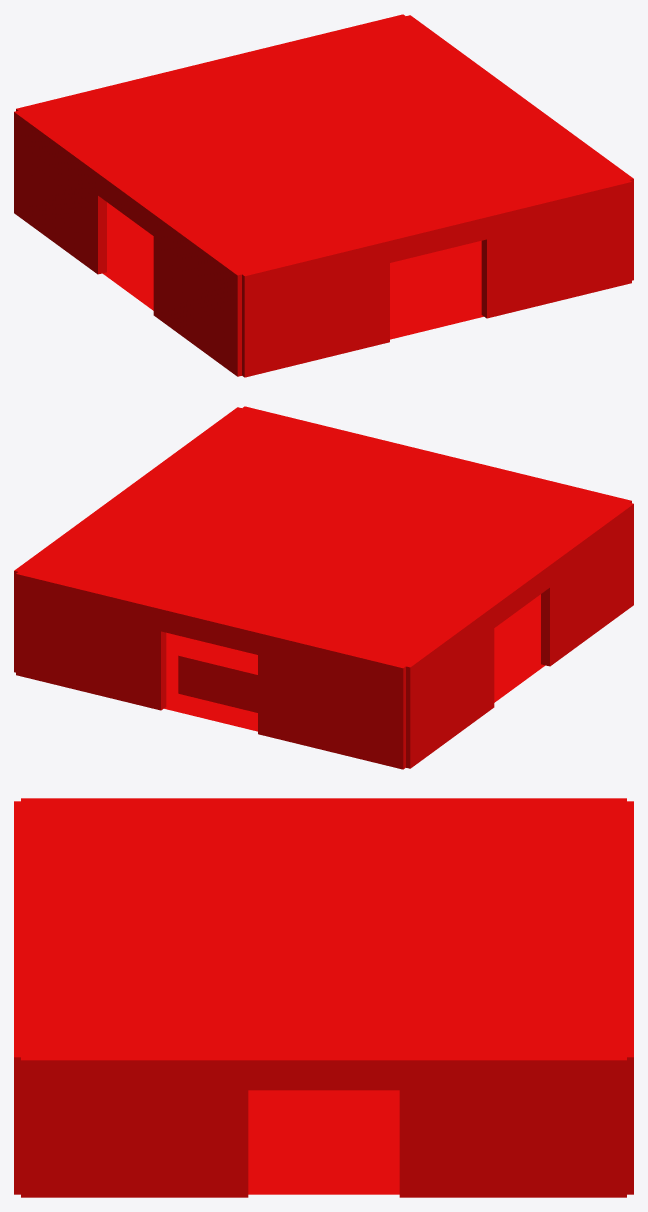
Rendered from cave_room_f.dae.
3 renders of one model, top to bottom at view 1: azimuth 30°, elevation 25°; view 2: azimuth 150°, elevation 25°; view 3: azimuth 270°, elevation 25°, orthographic. The views are drawn at different scales.
Visible parts, largest first — view 1: Plane.001, Cube.009, Cube.010, Plane, Cube.004, Cube.003, Cube.011, Cube.005, Cube.007, Cube.001, Cube, Cube.006 (+2 smaller); view 2: Plane.001, Cube.007, Cube.006, Cube.004, Cube.003, Plane, Cube.012, Cube.008, Cube.005, Cube.010, Cube, Cube.009 (+3 smaller); view 3: Plane.001, Cube.001, Cube, Plane, Cube.002, Cube.010, Cube.007, Cube.004, Cube.003, Cube.009, Cube.006, Cube.005 (+2 smaller).
Part boxes in pixels (<box>): Plane.001: <box>19,18,628,271</box>; Cube.009: <box>240,237,389,377</box>; Cube.010: <box>481,180,631,318</box>; Plane: <box>102,202,483,339</box>; Cube.004: <box>14,111,106,274</box>; Cube.003: <box>153,212,243,376</box>; Cube.011: <box>385,214,486,262</box>; Cube.005: <box>98,171,162,235</box>; Cube.007: <box>258,14,407,53</box>; Cube.001: <box>404,15,493,78</box>; Cube: <box>542,117,633,280</box>; Cube.006: <box>16,73,164,111</box>; Plane.001: <box>19,411,628,664</box>; Cube.007: <box>16,571,166,710</box>; Cube.006: <box>258,629,407,769</box>; Cube.004: <box>404,604,494,768</box>; Cube.003: <box>541,503,633,666</box>; Plane: <box>164,594,545,731</box>; Cube.012: <box>178,640,257,712</box>; Cube.008: <box>161,606,262,654</box>; Cube.005: <box>485,563,549,627</box>; Cube.010: <box>240,406,389,445</box>; Cube: <box>154,407,243,470</box>; Cube.009: <box>482,465,631,503</box>; Plane.001: <box>21,801,626,1054</box>; Cube.001: <box>399,1054,626,1197</box>; Cube: <box>21,1054,248,1197</box>; Plane: <box>248,1090,399,1194</box>; Cube.002: <box>248,1054,399,1090</box>; Cube.010: <box>14,961,28,1194</box>; Cube.007: <box>619,961,633,1194</box>; Cube.004: <box>399,798,626,804</box>; Cube.003: <box>21,798,248,804</box>; Cube.009: <box>14,801,28,897</box>; Cube.006: <box>619,801,633,897</box>; Cube.005: <box>248,798,399,804</box>.
Bounding box in the file's own units: 1048 × 1048 × 256.
